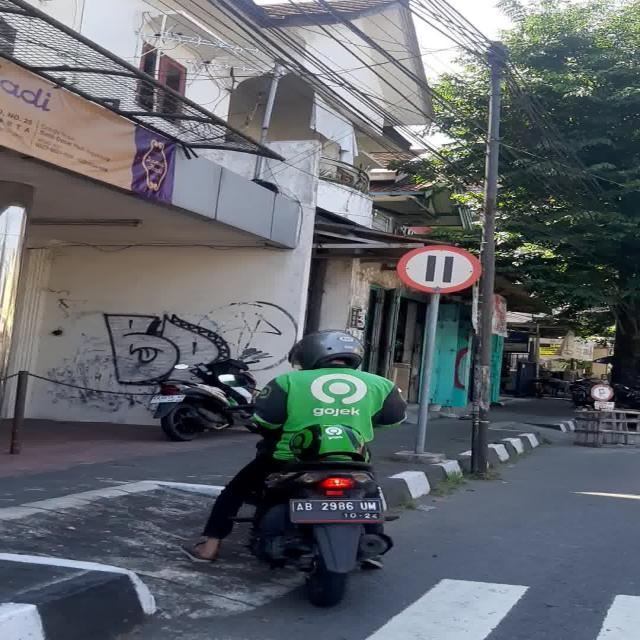Larangan Muatan - 10 ton: (396, 245, 482, 293)
